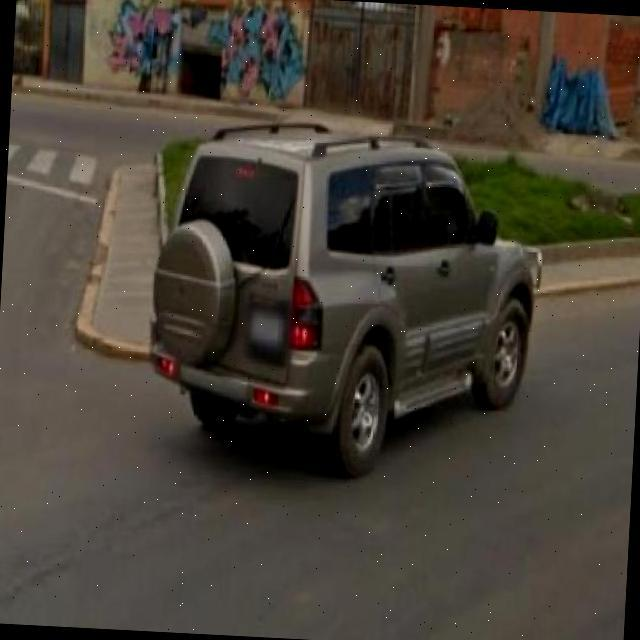car: (148, 122, 546, 479)
